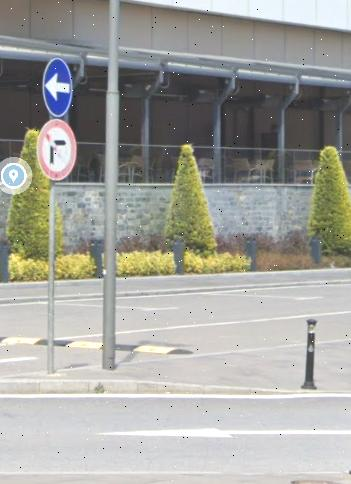rightturnsareforbidden: (37, 118, 79, 184)
turnleft: (43, 57, 73, 115)
